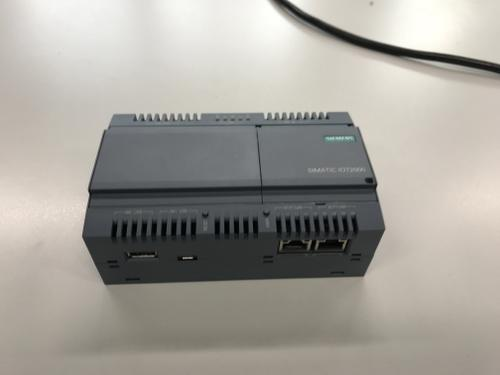device: (82, 112, 387, 286)
